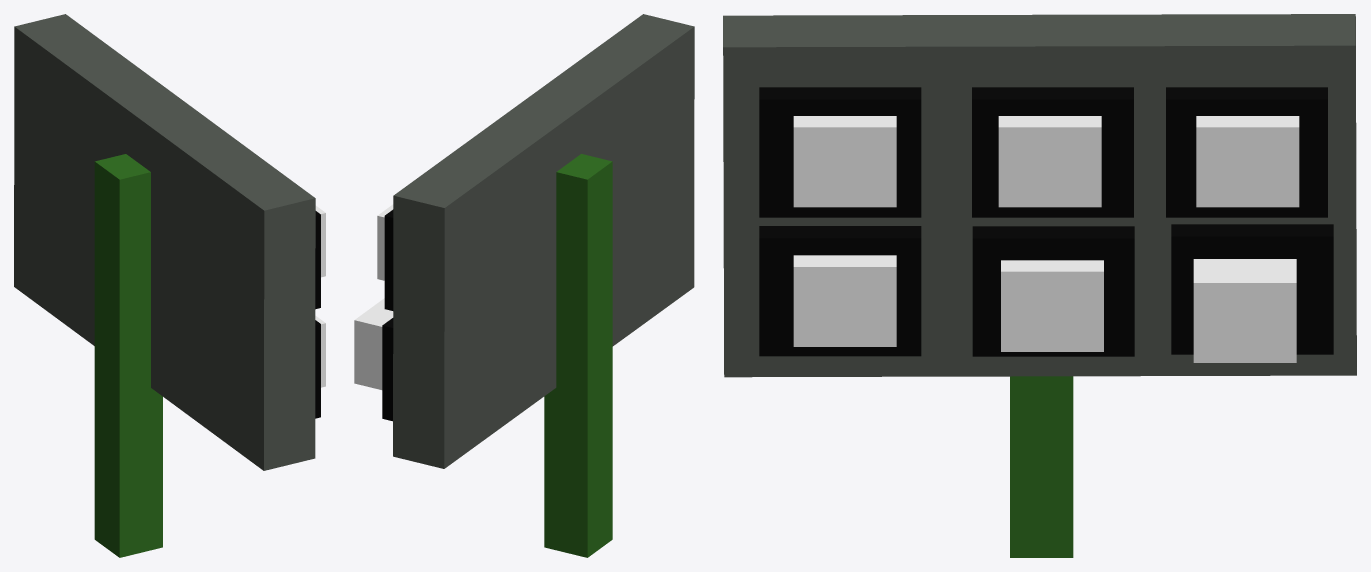
The model's file is lamp.obj.
The picture shows the model from 3 angles, left to right: view 1: azimuth 30°, elevation 25°; view 2: azimuth 150°, elevation 25°; view 3: azimuth 270°, elevation 25°; orthographic projection. The views are drawn at different scales.
Visible parts, largest first — view 1: Cube.2_Cube.001, Cube, Cube.001_Cube.015, Cube.007_Cube.020; view 2: Cube.2_Cube.001, Cube, Cube.012_Cube.025, Cube.006_Cube.019, Cube.004_Cube.017, Cube.008_Cube.021; view 3: Cube.2_Cube.001, Cube.007_Cube.020, Cube.001_Cube.015, Cube.005_Cube.018, Cube.003_Cube.016, Cube.004_Cube.017, Cube, Cube.006_Cube.019, Cube.012_Cube.025, Cube.010_Cube.023, Cube.008_Cube.021, Cube.009_Cube.022 (+2 smaller).
Part boxes in pixels (bbox=[...]): Cube.2_Cube.001: bbox=[14, 14, 315, 470]; Cube: bbox=[94, 154, 162, 557]; Cube.001_Cube.015: bbox=[315, 320, 320, 418]; Cube.007_Cube.020: bbox=[315, 211, 320, 309]; Cube.2_Cube.001: bbox=[393, 14, 694, 468]; Cube: bbox=[544, 154, 612, 557]; Cube.012_Cube.025: bbox=[354, 298, 393, 389]; Cube.006_Cube.019: bbox=[382, 318, 393, 421]; Cube.004_Cube.017: bbox=[384, 209, 393, 310]; Cube.008_Cube.021: bbox=[377, 204, 393, 280]; Cube.2_Cube.001: bbox=[723, 14, 1356, 377]; Cube.007_Cube.020: bbox=[759, 87, 921, 217]; Cube.001_Cube.015: bbox=[759, 226, 921, 356]; Cube.005_Cube.018: bbox=[972, 226, 1134, 356]; Cube.003_Cube.016: bbox=[972, 87, 1133, 217]; Cube.004_Cube.017: bbox=[1166, 87, 1327, 217]; Cube: bbox=[1010, 376, 1073, 557]; Cube.006_Cube.019: bbox=[1171, 224, 1333, 354]; Cube.012_Cube.025: bbox=[1193, 259, 1296, 362]; Cube.010_Cube.023: bbox=[793, 255, 896, 346]; Cube.008_Cube.021: bbox=[1196, 116, 1299, 207]; Cube.009_Cube.022: bbox=[998, 116, 1101, 207].
Size of the model in its own units: 8.8 by 24.57 by 26.3.
